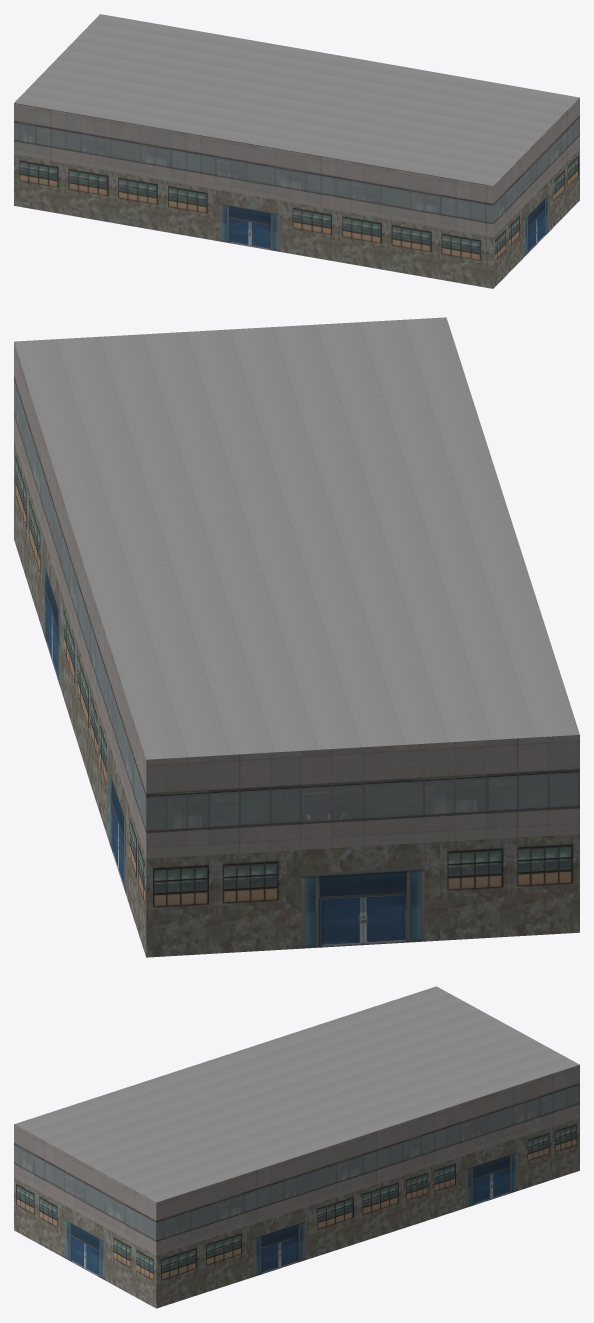
3 renders of one model, top to bottom at view 1: azimuth 30°, elevation 25°; view 2: azimuth 150°, elevation 25°; view 3: azimuth 270°, elevation 25°, orthographic. The views are drawn at different scales.
Parts seen in each view (by area): view 1: BuildingMaster_1992193561644461162900000000_0, BuildingMaster_1992193561644461162900000000_1; view 2: BuildingMaster_1992193561644461162900000000_1, BuildingMaster_1992193561644461162900000000_0; view 3: BuildingMaster_1992193561644461162900000000_0, BuildingMaster_1992193561644461162900000000_1.
Boxes of the visible parts, <box> form: BuildingMaster_1992193561644461162900000000_0: <box>14,98,579,288</box>; BuildingMaster_1992193561644461162900000000_1: <box>14,14,579,185</box>; BuildingMaster_1992193561644461162900000000_1: <box>14,317,579,759</box>; BuildingMaster_1992193561644461162900000000_0: <box>14,342,579,957</box>; BuildingMaster_1992193561644461162900000000_0: <box>14,1065,579,1308</box>; BuildingMaster_1992193561644461162900000000_1: <box>14,986,579,1202</box>.
Size of the model in its own units: 30.64 by 7 by 33.88.
2 materials, 2 textured.
